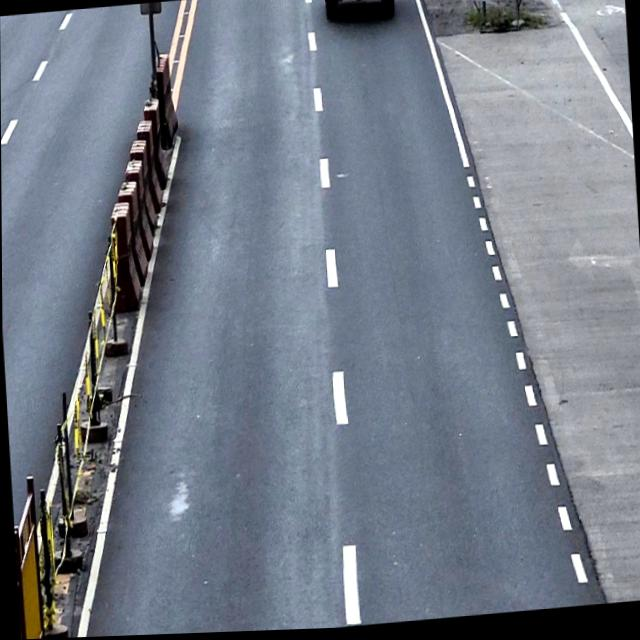Car: (323, 0, 396, 24)
